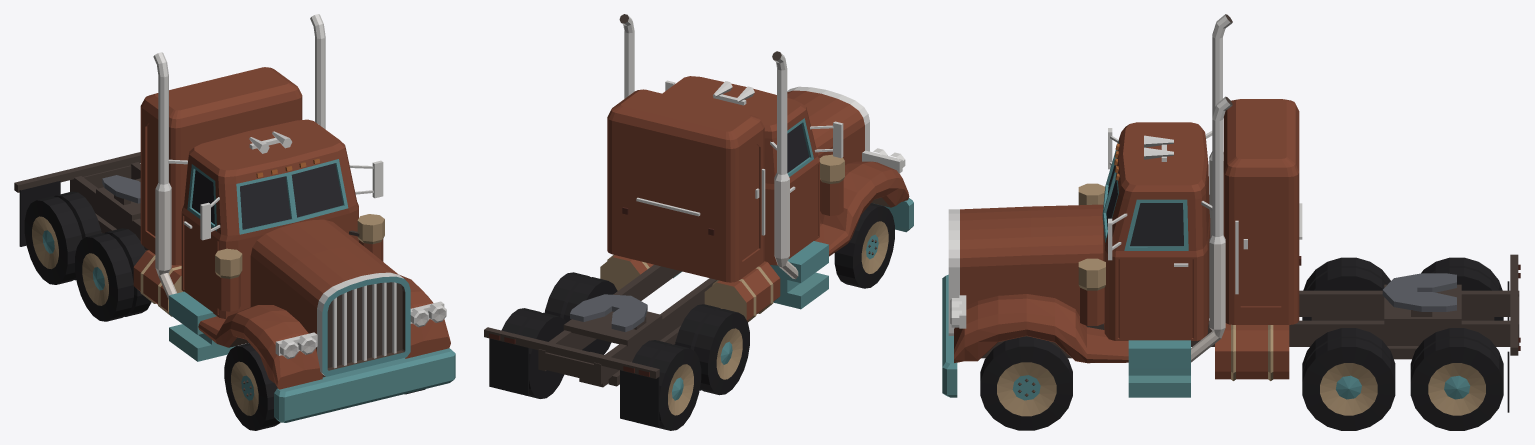
File: semi-tractor-e9455c.glb
3 views of the same model, side by side, from view 1: azimuth 30°, elevation 25°; view 2: azimuth 150°, elevation 25°; view 3: azimuth 270°, elevation 25° (orthographic). The views are drawn at different scales.
Visible parts, largest first — view 1: semi-tractor-body, wheel-mr-mesh, wheel-rr-mesh, wheel-fr-mesh; view 2: semi-tractor-body, wheel-mr-mesh, wheel-rr-mesh, wheel-fr-mesh, wheel-rl-mesh, wheel-ml-mesh; view 3: semi-tractor-body, wheel-ml-mesh, wheel-rl-mesh, wheel-fl-mesh, wheel-mr-mesh, wheel-rr-mesh.
Boxes of the visible parts, left/top/right/bottom form: semi-tractor-body: left=14, top=14, right=455, bottom=422; wheel-mr-mesh: left=75, top=228, right=151, bottom=321; wheel-rr-mesh: left=24, top=191, right=101, bottom=284; wheel-fr-mesh: left=224, top=343, right=280, bottom=430; semi-tractor-body: left=484, top=14, right=913, bottom=427; wheel-mr-mesh: left=675, top=304, right=749, bottom=395; wheel-rr-mesh: left=632, top=340, right=701, bottom=430; wheel-fr-mesh: left=834, top=203, right=894, bottom=288; wheel-rl-mesh: left=501, top=308, right=566, bottom=398; wheel-ml-mesh: left=544, top=272, right=617, bottom=354; semi-tractor-body: left=942, top=14, right=1520, bottom=412; wheel-ml-mesh: left=1302, top=328, right=1395, bottom=430; wheel-rl-mesh: left=1410, top=328, right=1503, bottom=430; wheel-fl-mesh: left=980, top=336, right=1072, bottom=430; wheel-mr-mesh: left=1302, top=257, right=1390, bottom=320; wheel-rr-mesh: left=1421, top=257, right=1503, bottom=320.
Bounding box in the file's own units: 2.54 × 4.1 × 6.52.
